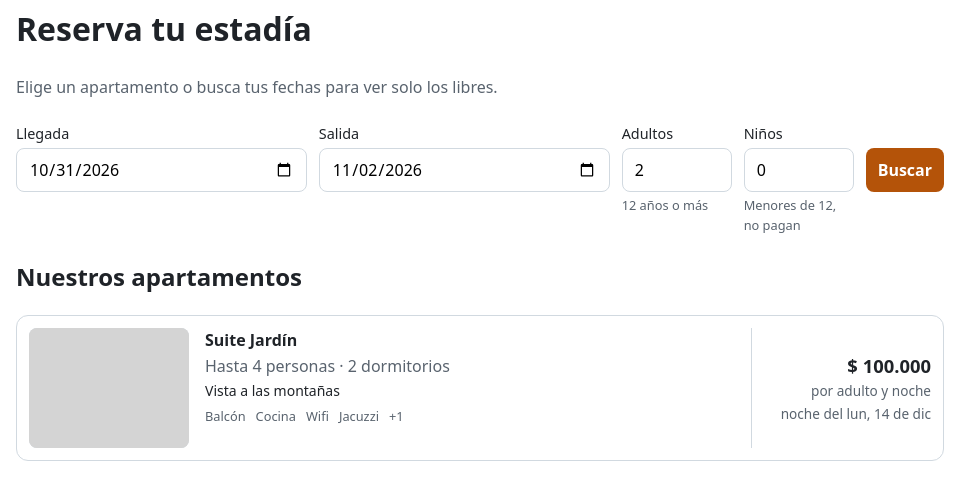
it: Inicio › muestra el mensaje del backend cuando la búsqueda falla
The width and height of the screenshot is (961, 478).
Expected: the heading "Nuestros apartamentos" is shown, [16, 260, 302, 293]
Step 1. Click the button "Buscar" → [905, 170], box [866, 148, 944, 192]
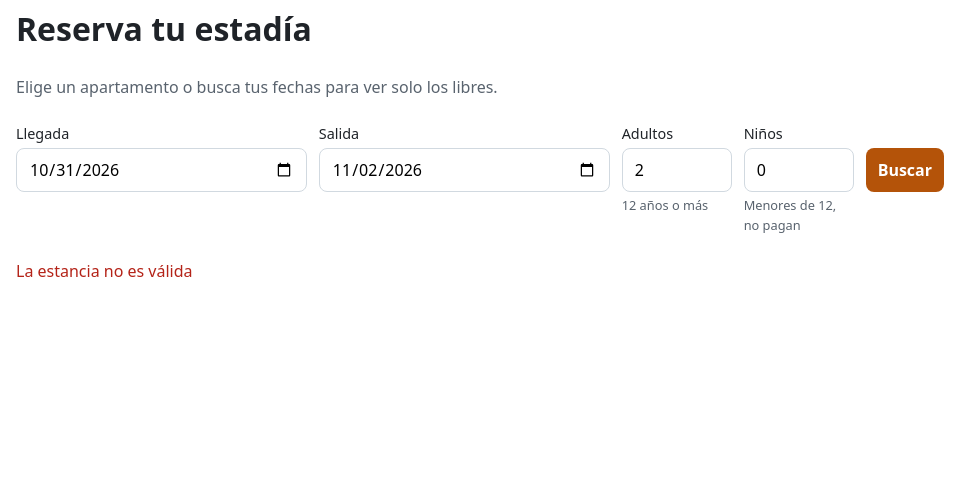
Expected: the message reads "La estancia no es válida", [16, 260, 192, 282]
